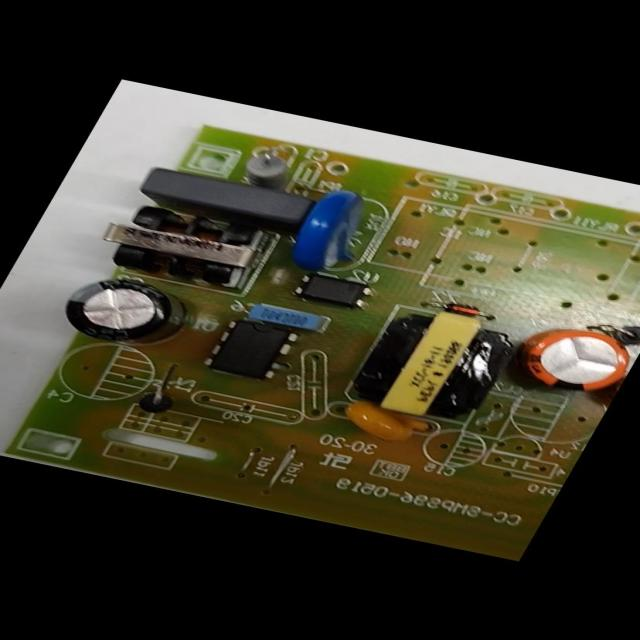Cap1: (510, 322, 639, 396)
Cap3: (51, 270, 206, 350)
MOSFET: (205, 318, 301, 381)
Mov: (280, 184, 386, 273)
Resistor: (236, 147, 304, 190)
Transformer: (350, 304, 530, 424), (85, 196, 281, 294)
